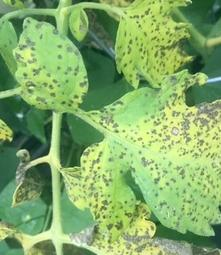Tomato leaf bacterial spot: (101, 73, 221, 240), (67, 186, 221, 255), (112, 0, 209, 96), (10, 14, 93, 124), (61, 136, 138, 239)
